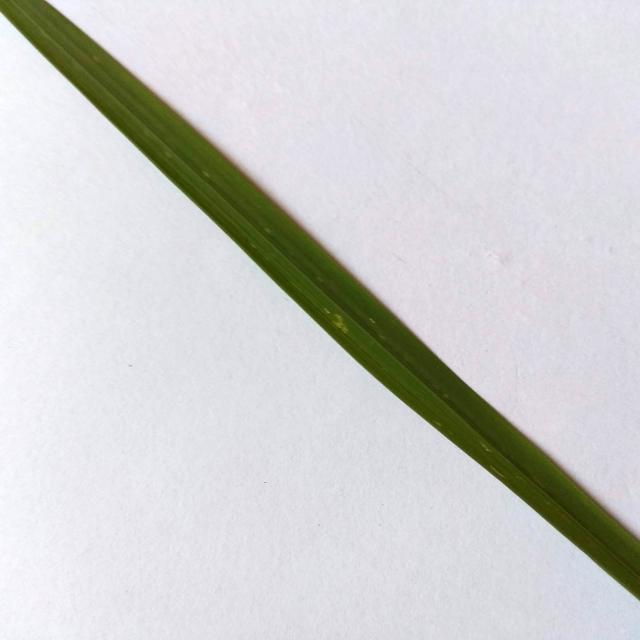Rice_Healthy: (0, 0, 640, 598)
